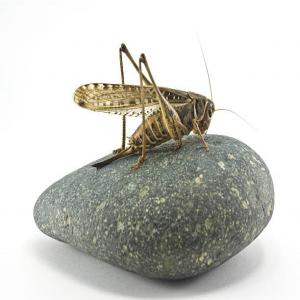locust: (61, 45, 224, 165)
